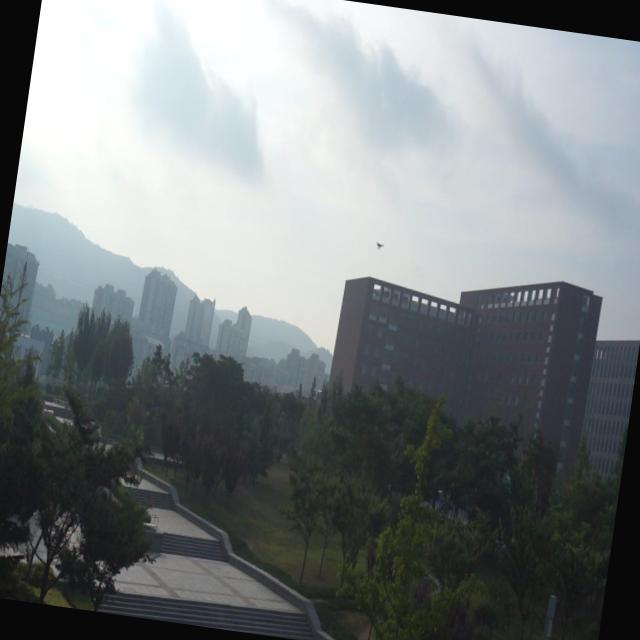drone: (375, 238, 387, 255)
